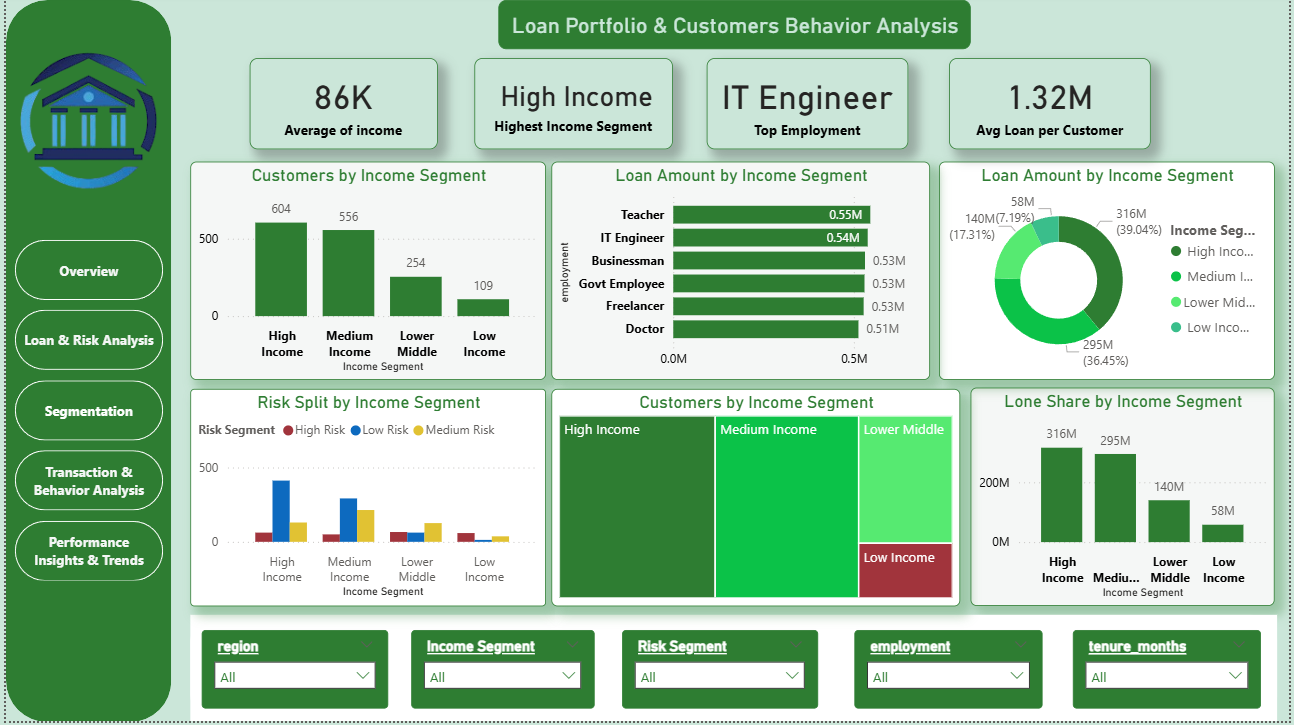

The page's visual inventory and layout, read from the dashboard file:
{"tool":"powerbi","page":{"name":" Segmentation","canvas":[1280,720],"ordinal":2},"visuals":[{"type":"shape","box":[0,0,165,720.5],"z":0},{"type":"shape","title":"Loan Portfolio & Customers Behavior Analysis","box":[491.3,0,471.1,49.1],"z":1000},{"type":"pageNavigator","box":[8.8,239.3,148.6,341.4],"z":2000},{"type":"image","box":[0,11.3,165,219.2],"z":3000},{"type":"card","fields":{"Values":["Avg(banking_loan_db cust_trans_loan.income)"]},"box":[243.1,57.9,187.7,90.7],"z":4000},{"type":"card","fields":{"Values":["banking_loan_db cust_trans_loan.Highest Income Segment"]},"box":[467.3,57.9,197.8,90.7],"z":5000},{"type":"card","fields":{"Values":["banking_loan_db cust_trans_loan.Top Employment"]},"box":[699.1,57.9,201.5,90.7],"z":6000},{"type":"columnChart","title":"Customers by Income Segment","fields":{"Category":["banking_loan_db cust_trans_loan.Income Segment"],"Y":["CountNonNull(banking_loan_db cust_trans_loan.customer_id)"]},"box":[183.9,161.2,355.2,217.9],"z":7000},{"type":"columnChart","title":"Lone Share by Income Segment","fields":{"Category":["banking_loan_db cust_trans_loan.Income Segment"],"Y":["Sum(banking_loan_db cust_trans_loan.loan_amount)"]},"box":[962.4,386.7,303.6,217.9],"z":8000},{"type":"donutChart","title":"Loan Amount by Income Segment","fields":{"Category":["banking_loan_db cust_trans_loan.Income Segment"],"Y":["Sum(banking_loan_db cust_trans_loan.loan_amount)"]},"box":[930.9,161.2,335.1,217.9],"z":9000},{"type":"shape","box":[183.9,612.9,1084.6,107.1],"z":10000},{"type":"slicer","fields":{"Values":["banking_loan_db cust_trans_loan.region"]},"box":[195.2,628.6,186.4,78.1],"z":11000},{"type":"slicer","fields":{"Values":["banking_loan_db cust_trans_loan.Income Segment"]},"box":[404.4,628.6,182.7,78.1],"z":12000},{"type":"slicer","fields":{"Values":["banking_loan_db cust_trans_loan.Risk Segment"]},"box":[614.7,628.6,195.2,78.1],"z":13000},{"type":"slicer","fields":{"Values":["banking_loan_db cust_trans_loan.employment"]},"box":[846.5,628.6,187.7,78.1],"z":14000},{"type":"slicer","fields":{"Values":["banking_loan_db cust_trans_loan.tenure_months"]},"box":[1064.4,628.6,187.7,78.1],"z":15000},{"type":"card","fields":{"Values":["banking_loan_db cust_trans_loan.Avg Loan per Customer"]},"box":[941,57.9,201.5,90.7],"z":16000},{"type":"clusteredColumnChart","title":"Risk Split by Income Segment ","fields":{"Category":["banking_loan_db cust_trans_loan.Income Segment"],"Series":["banking_loan_db cust_trans_loan.Risk Segment"],"Y":["CountNonNull(banking_loan_db cust_trans_loan.customer_id)"]},"box":[183.9,388,355.2,216.7],"z":17000},{"type":"barChart","title":"Loan Amount by Income Segment","fields":{"Category":["banking_loan_db cust_trans_loan.employment"],"Y":["Avg(banking_loan_db cust_trans_loan.loan_amount)"]},"box":[544.2,161.2,377.9,217.9],"z":18000},{"type":"treemap","title":"Customers by Income Segment","fields":{"Group":["banking_loan_db cust_trans_loan.Income Segment"],"Values":["CountNonNull(banking_loan_db cust_trans_loan.customer_id)"]},"box":[544.2,388,408.1,216.7],"z":19000}]}

Visuals, with their boxes in screenshot pixels (x1, y1, x2, y2), scaled from the page's 1280x720 canvas onto the 1294x725 screenshot:
shape: <box>0,0,167,724</box>
"Loan Portfolio & Customers Behavior Analysis" shape: <box>497,0,973,49</box>
pageNavigator: <box>9,241,159,585</box>
image: <box>0,11,167,232</box>
card - Avg(banking_loan_db cust_trans_loan.income): <box>246,58,436,150</box>
card - banking_loan_db cust_trans_loan.Highest Income Segment: <box>472,58,672,150</box>
card - banking_loan_db cust_trans_loan.Top Employment: <box>707,58,910,150</box>
"Customers by Income Segment" columnChart: <box>186,162,545,382</box>
"Lone Share by Income Segment" columnChart: <box>973,389,1280,609</box>
"Loan Amount by Income Segment" donutChart: <box>941,162,1280,382</box>
shape: <box>186,617,1282,724</box>
slicer - banking_loan_db cust_trans_loan.region: <box>197,633,386,712</box>
slicer - banking_loan_db cust_trans_loan.Income Segment: <box>409,633,594,712</box>
slicer - banking_loan_db cust_trans_loan.Risk Segment: <box>621,633,819,712</box>
slicer - banking_loan_db cust_trans_loan.employment: <box>856,633,1046,712</box>
slicer - banking_loan_db cust_trans_loan.tenure_months: <box>1076,633,1266,712</box>
card - banking_loan_db cust_trans_loan.Avg Loan per Customer: <box>951,58,1155,150</box>
"Risk Split by Income Segment " clusteredColumnChart: <box>186,391,545,609</box>
"Loan Amount by Income Segment" barChart: <box>550,162,932,382</box>
"Customers by Income Segment" treemap: <box>550,391,963,609</box>
